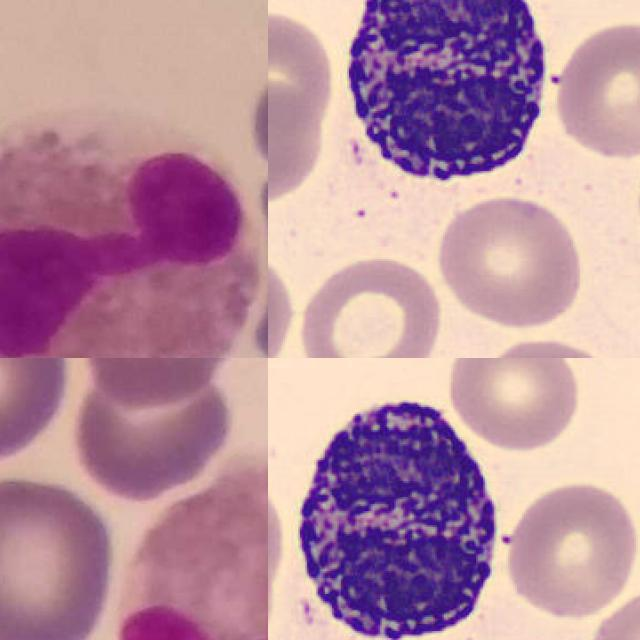Basophil: (279, 378, 514, 640), (328, 0, 563, 203)
Eosinophil: (0, 106, 265, 358), (116, 473, 268, 640)
RBC: (433, 190, 584, 330), (502, 477, 640, 622), (562, 127, 640, 349), (294, 254, 445, 358), (443, 358, 584, 453), (551, 17, 640, 162), (268, 5, 336, 132), (268, 88, 331, 206), (470, 335, 621, 358)
